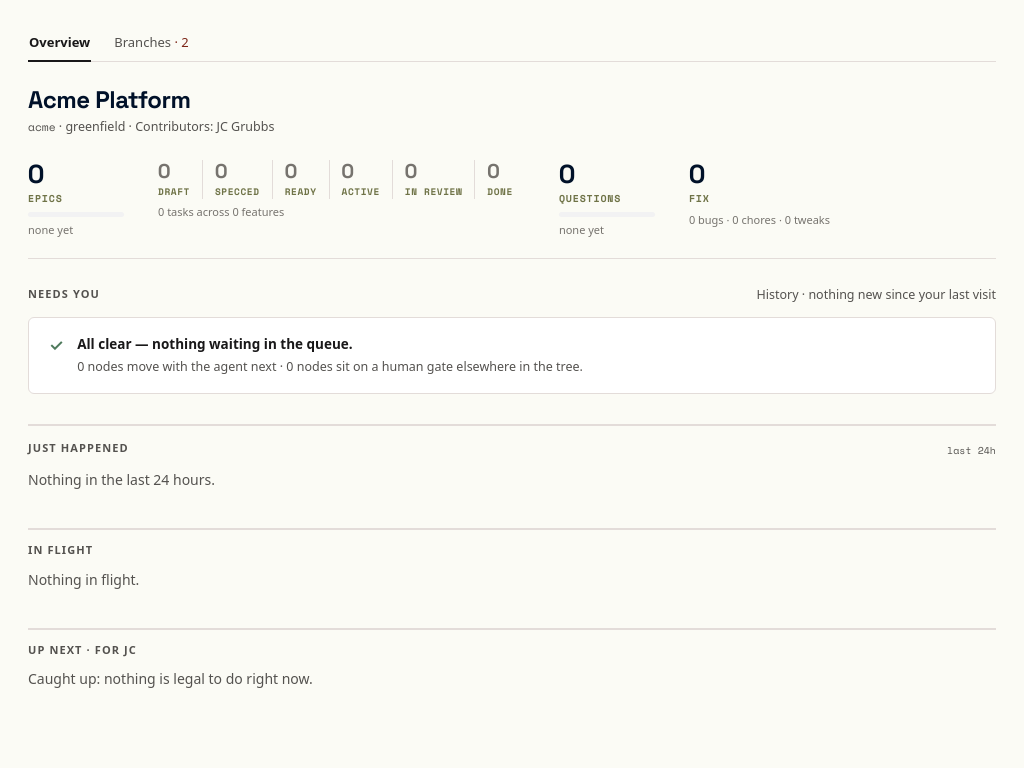
Test: Home tabs: Overview and Branches › selects Branches onto the URL and shows observations and diagnostics in place of the desk
Expected: the text "All clear — nothing waiting in the queue." is shown, [77,335,353,353]
Click the button "Branches · 2": (152, 44) [113,26,190,62]
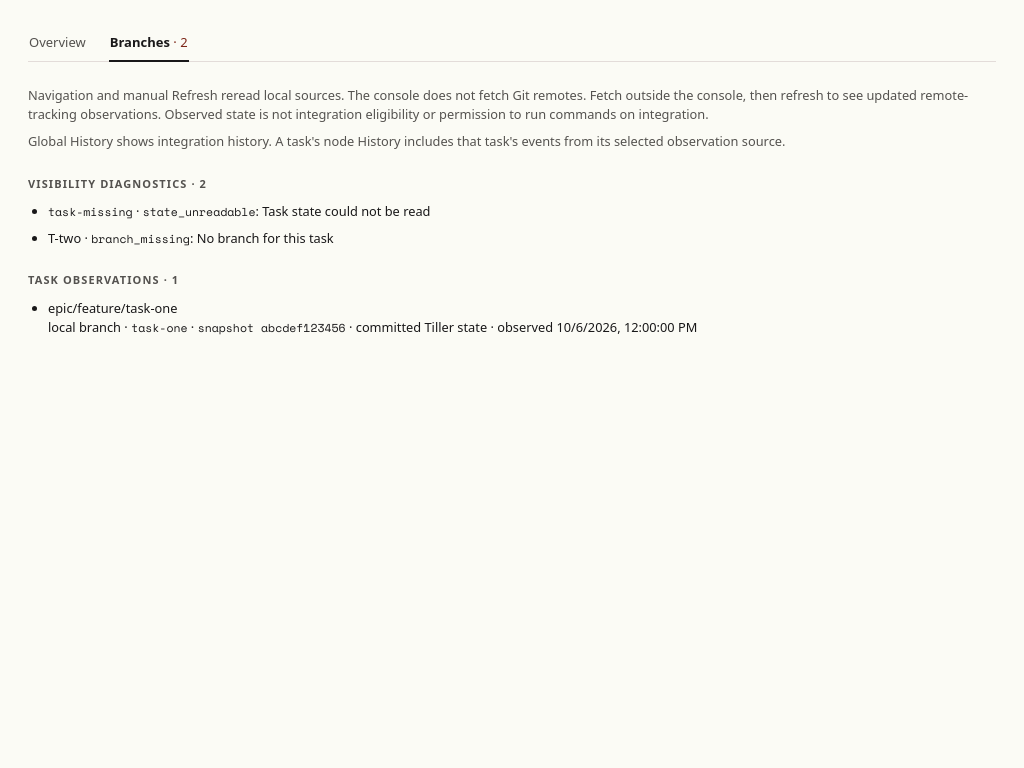
Now the list item "Task state could not be read" is shown, box [262,202,430,220]
Now the text "The console does not fetch Git remotes" is shown, box [28,86,968,123]
Now the text "All clear" is gone
Click the button "Overview": (57, 44) [28,26,87,62]
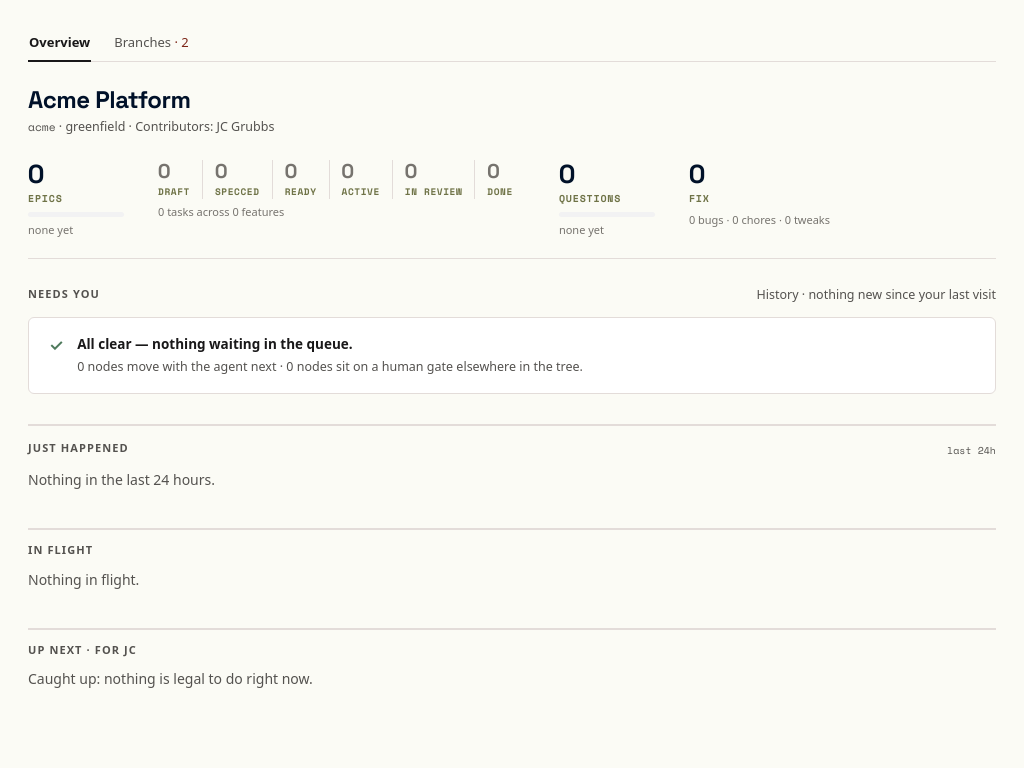
Now the text "All clear — nothing waiting in the queue." is shown, box [77,335,353,353]
